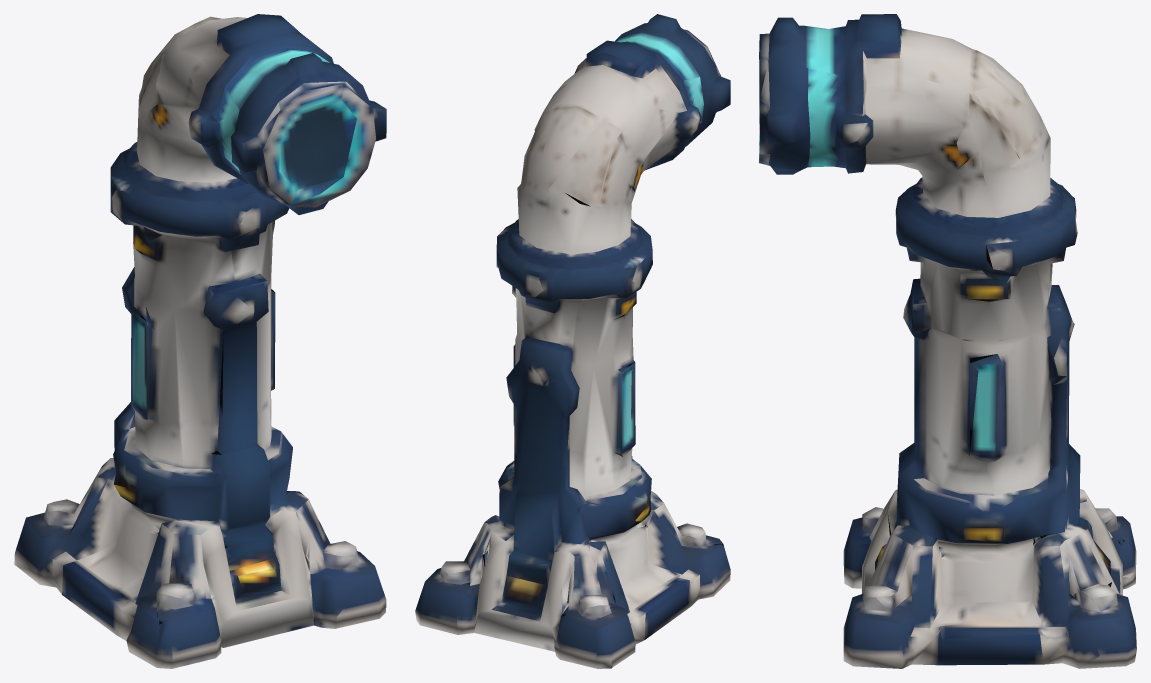
Rendered from cryo-pipe-riser_LOD0.glb.
3 views of the same model, side by side, from view 1: azimuth 30°, elevation 25°; view 2: azimuth 150°, elevation 25°; view 3: azimuth 270°, elevation 25° (orthographic). The views are drawn at different scales.
Visible parts, largest first — view 1: cryo-pipe-riser_LOD0; view 2: cryo-pipe-riser_LOD0; view 3: cryo-pipe-riser_LOD0.
Boxes of the visible parts, x1,y1,x2,y2 form: cryo-pipe-riser_LOD0: [14, 14, 386, 668]; cryo-pipe-riser_LOD0: [415, 14, 730, 668]; cryo-pipe-riser_LOD0: [759, 14, 1136, 668].
Bounding box in the file's own units: 0.7461 × 1.8 × 1.05.
1 material, 1 textured.
